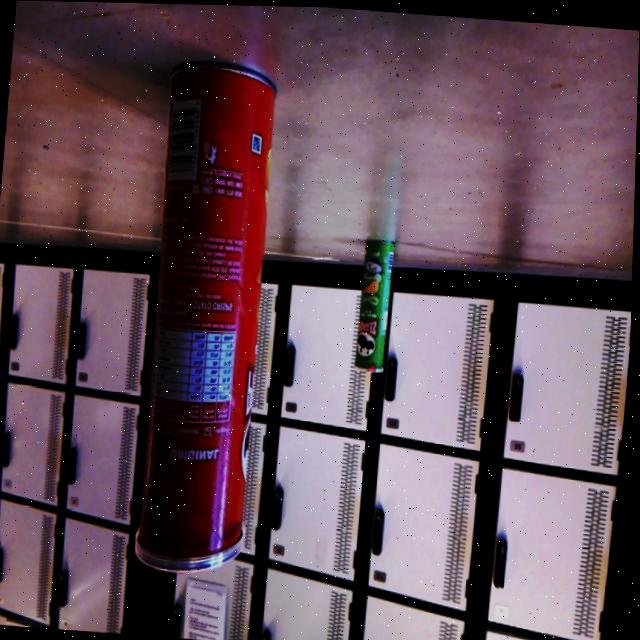greenpringles: (351, 228, 405, 381)
redpringles: (123, 50, 297, 585)
